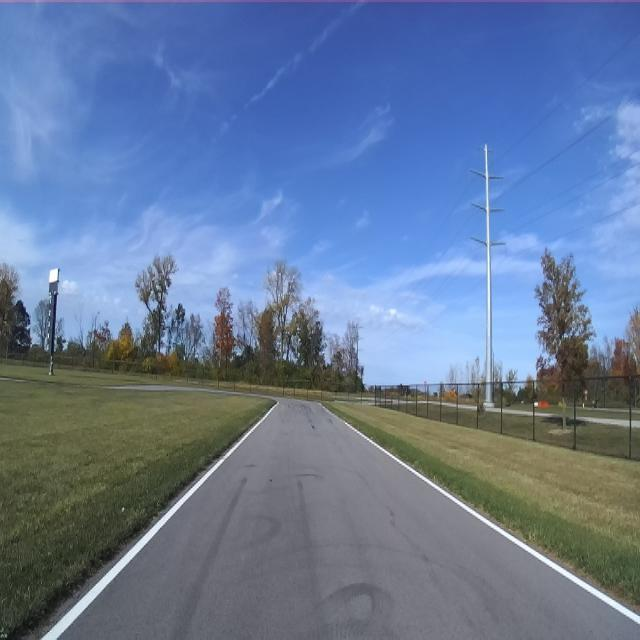white-line: (322, 406, 640, 625), (41, 402, 278, 639)
